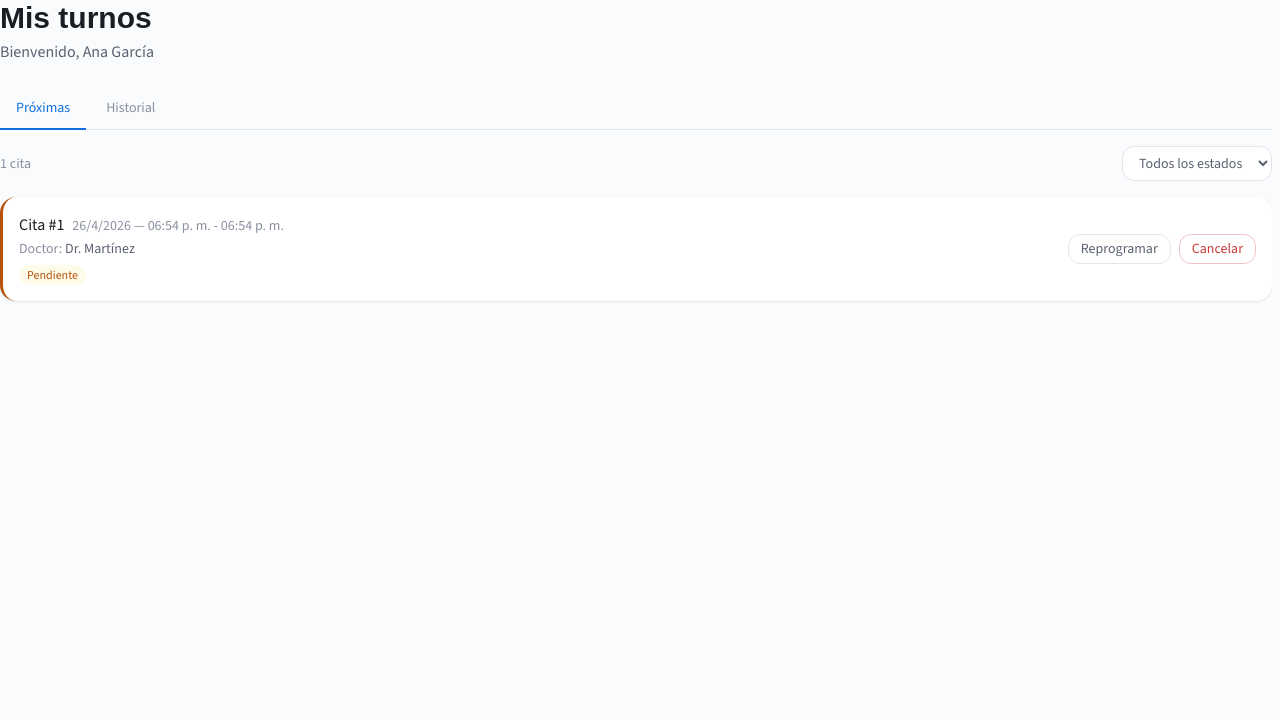
Dashboard — paciente › cierra el modal al clickar Volver
Click the button "Cancelar". click: (1217, 249)
box: [1179, 234, 1256, 264]
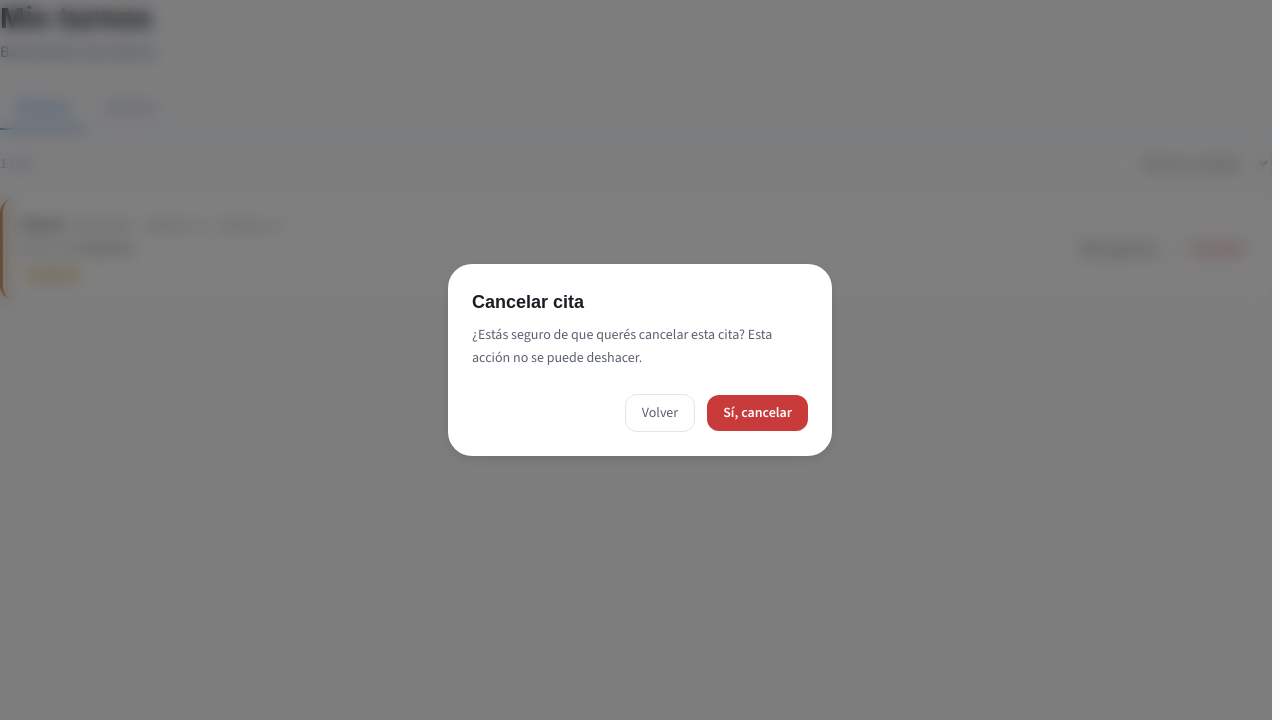
Click the button "Volver". click: (660, 413)
box: [625, 394, 695, 432]
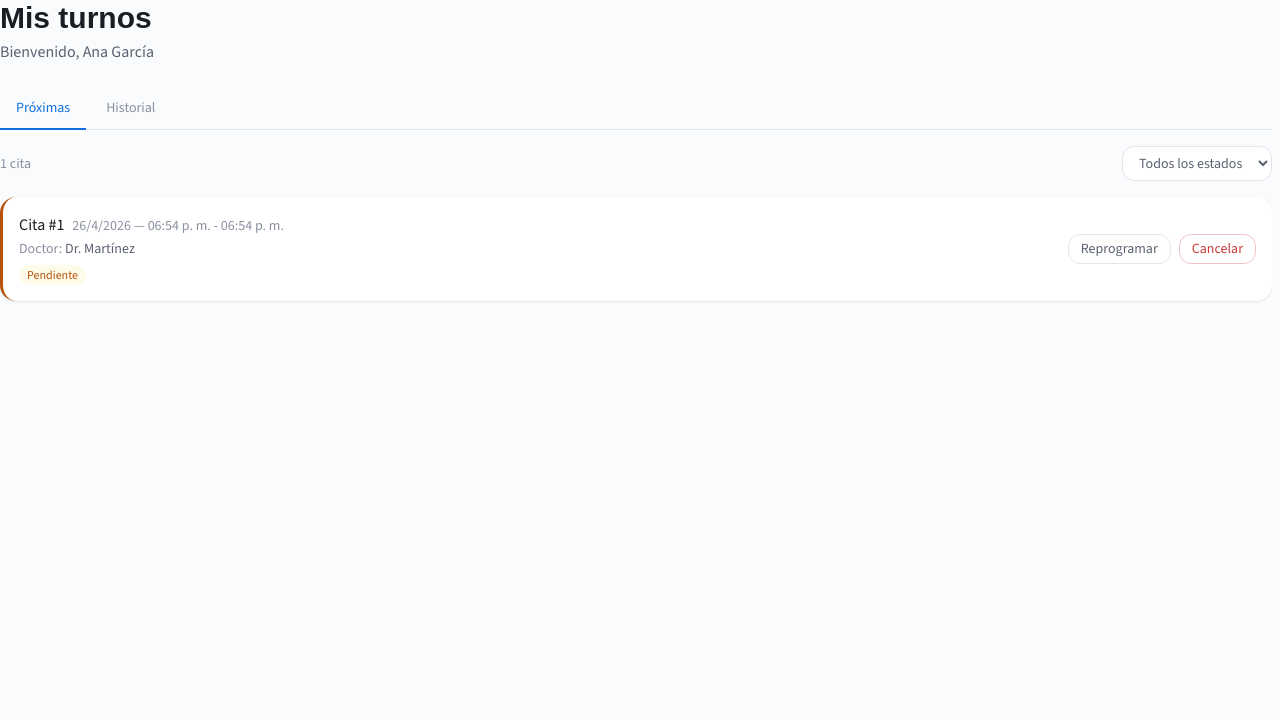
Expected: the dialog is gone
